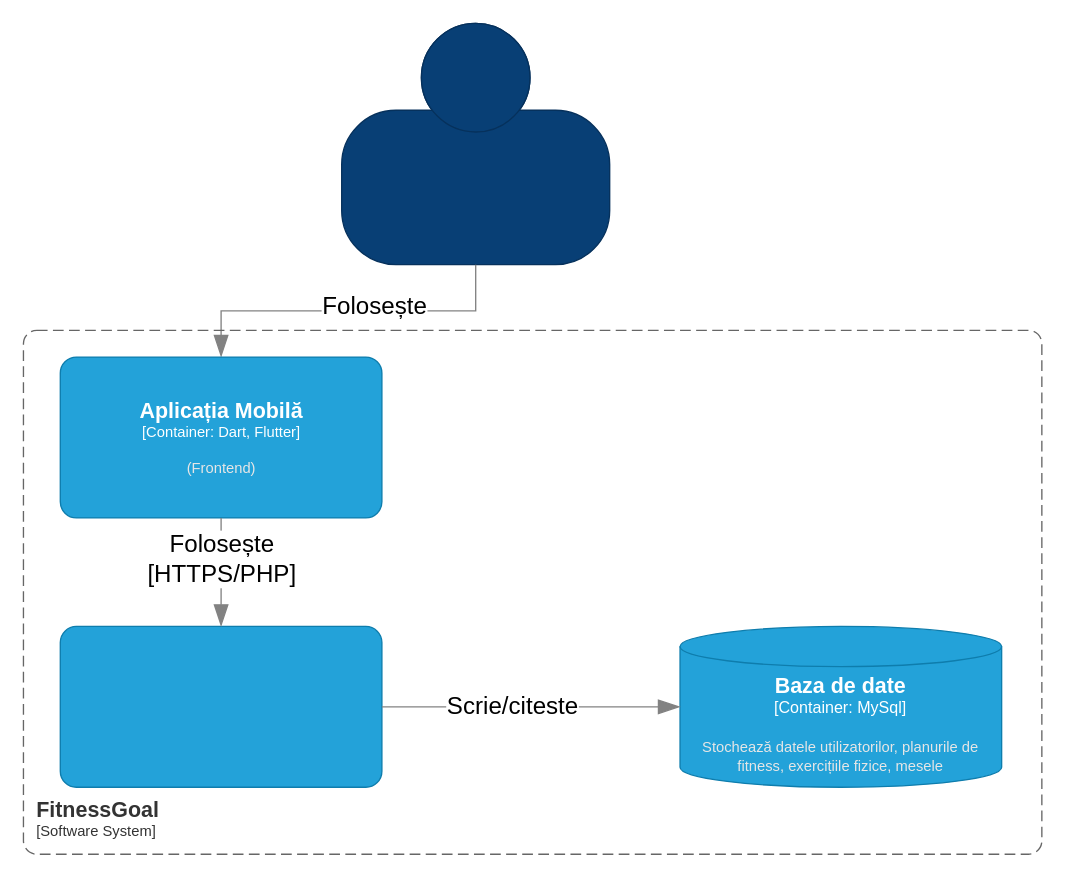
This 1065x878 diagram has some shape labels left out. The shapes that lost their labels are listed below. From the top down, each one's box as (x1, y1, x2, y2) in pixels, then its label:
(340, 22, 610, 265): Utilizatorul [Person] Utilizatorul care dorește să urmeze un plan de fitness
(59, 625, 382, 787): FitnessGoal API [Container: Dart, PHP] (Backend)
